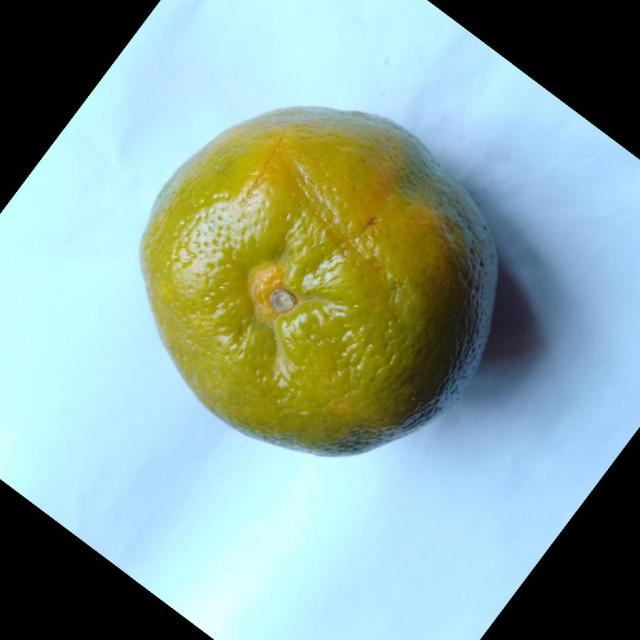fresh orange: (138, 104, 499, 458)
